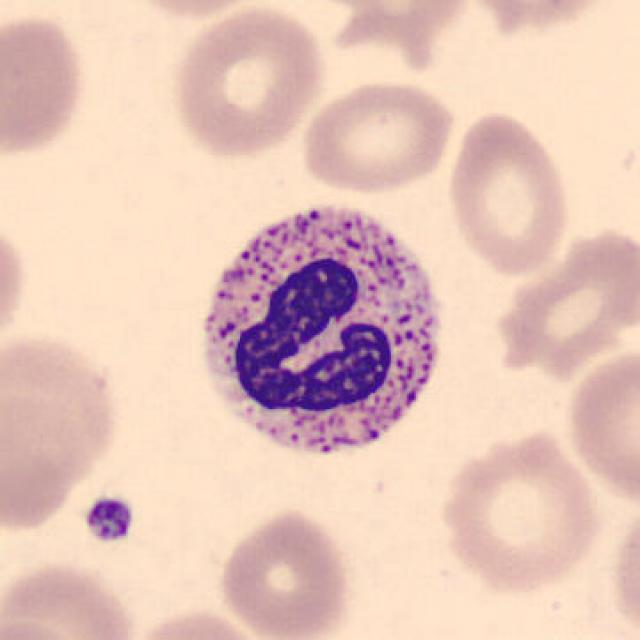Neutrophil: (183, 188, 455, 480)
Platelets: (80, 492, 139, 546)
RBC: (436, 423, 604, 596), (167, 2, 329, 162), (0, 324, 124, 527), (443, 105, 574, 278), (493, 234, 640, 380), (297, 76, 459, 196), (214, 506, 358, 640), (0, 7, 92, 165), (562, 344, 640, 511), (0, 555, 142, 640), (311, 0, 475, 51), (457, 0, 619, 37), (0, 212, 32, 363), (126, 606, 268, 640), (606, 497, 640, 638), (114, 0, 276, 21), (2, 615, 89, 640)
